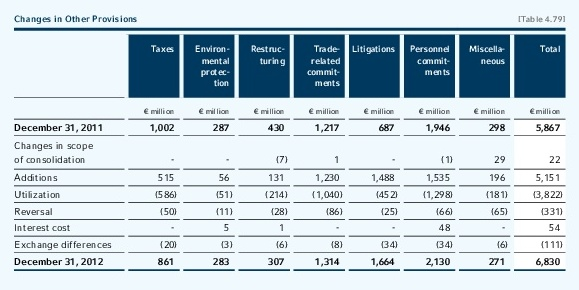table: (0, 0, 579, 290)
